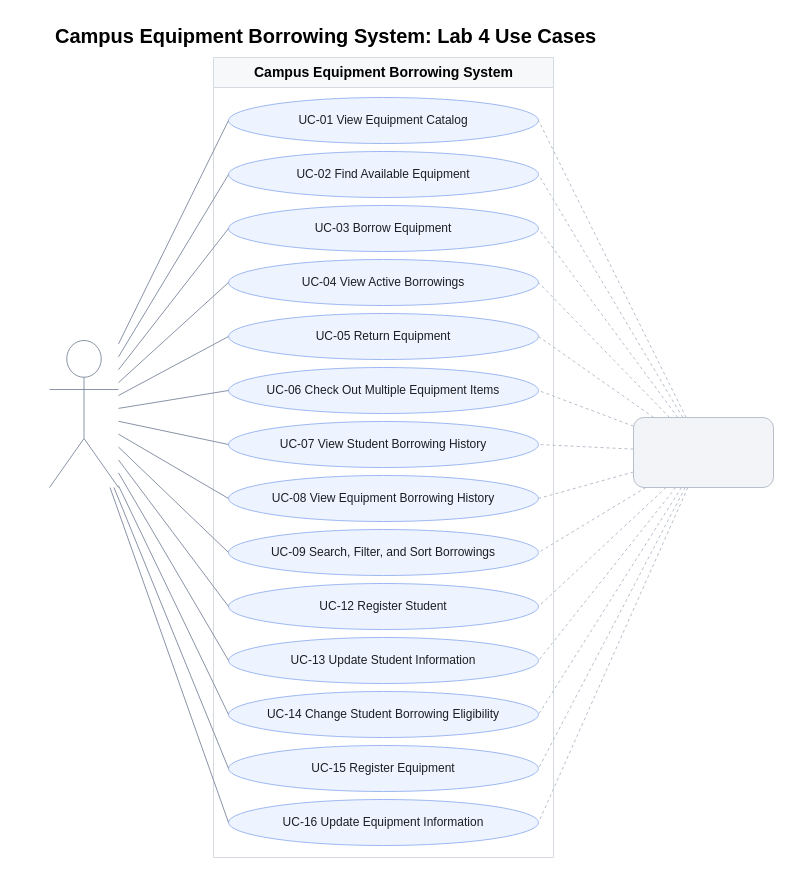
This 791x875 diagram has some shape labels left out. The centre of each missing label's shape, as x and y in pixels:
Laboratory Staff / Equipment Custodian primary actor: pixel 83 414
PostgreSQL supporting system: pixel 703 452
